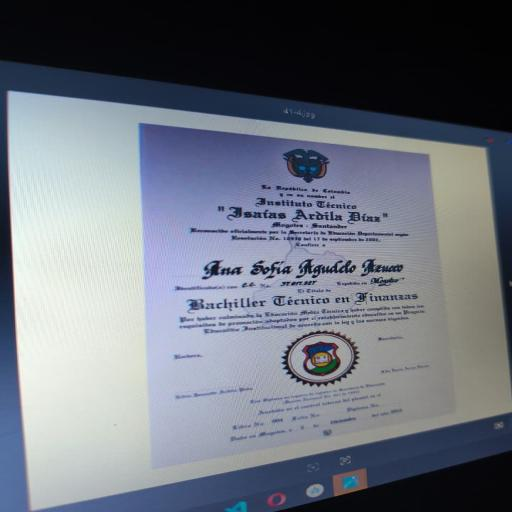diploma: (140, 124, 457, 472)
escudo: (270, 141, 351, 191)
institucion: (201, 191, 408, 232)
nombre: (175, 255, 408, 284)
